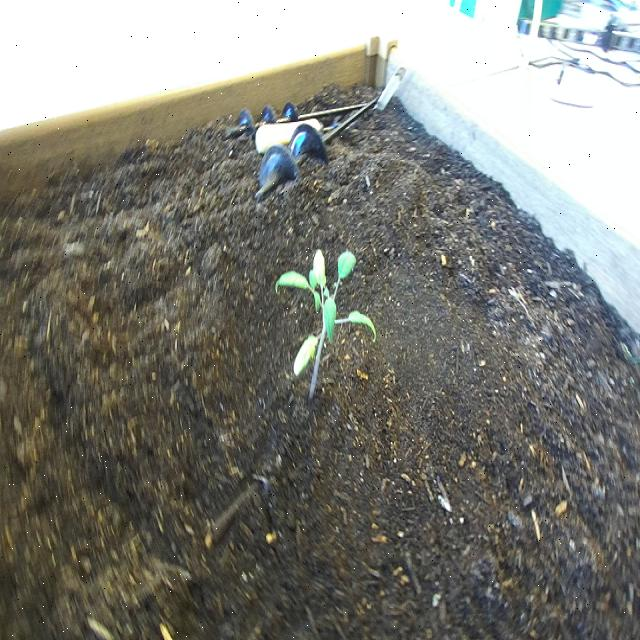Healthy: (274, 242, 382, 411)
